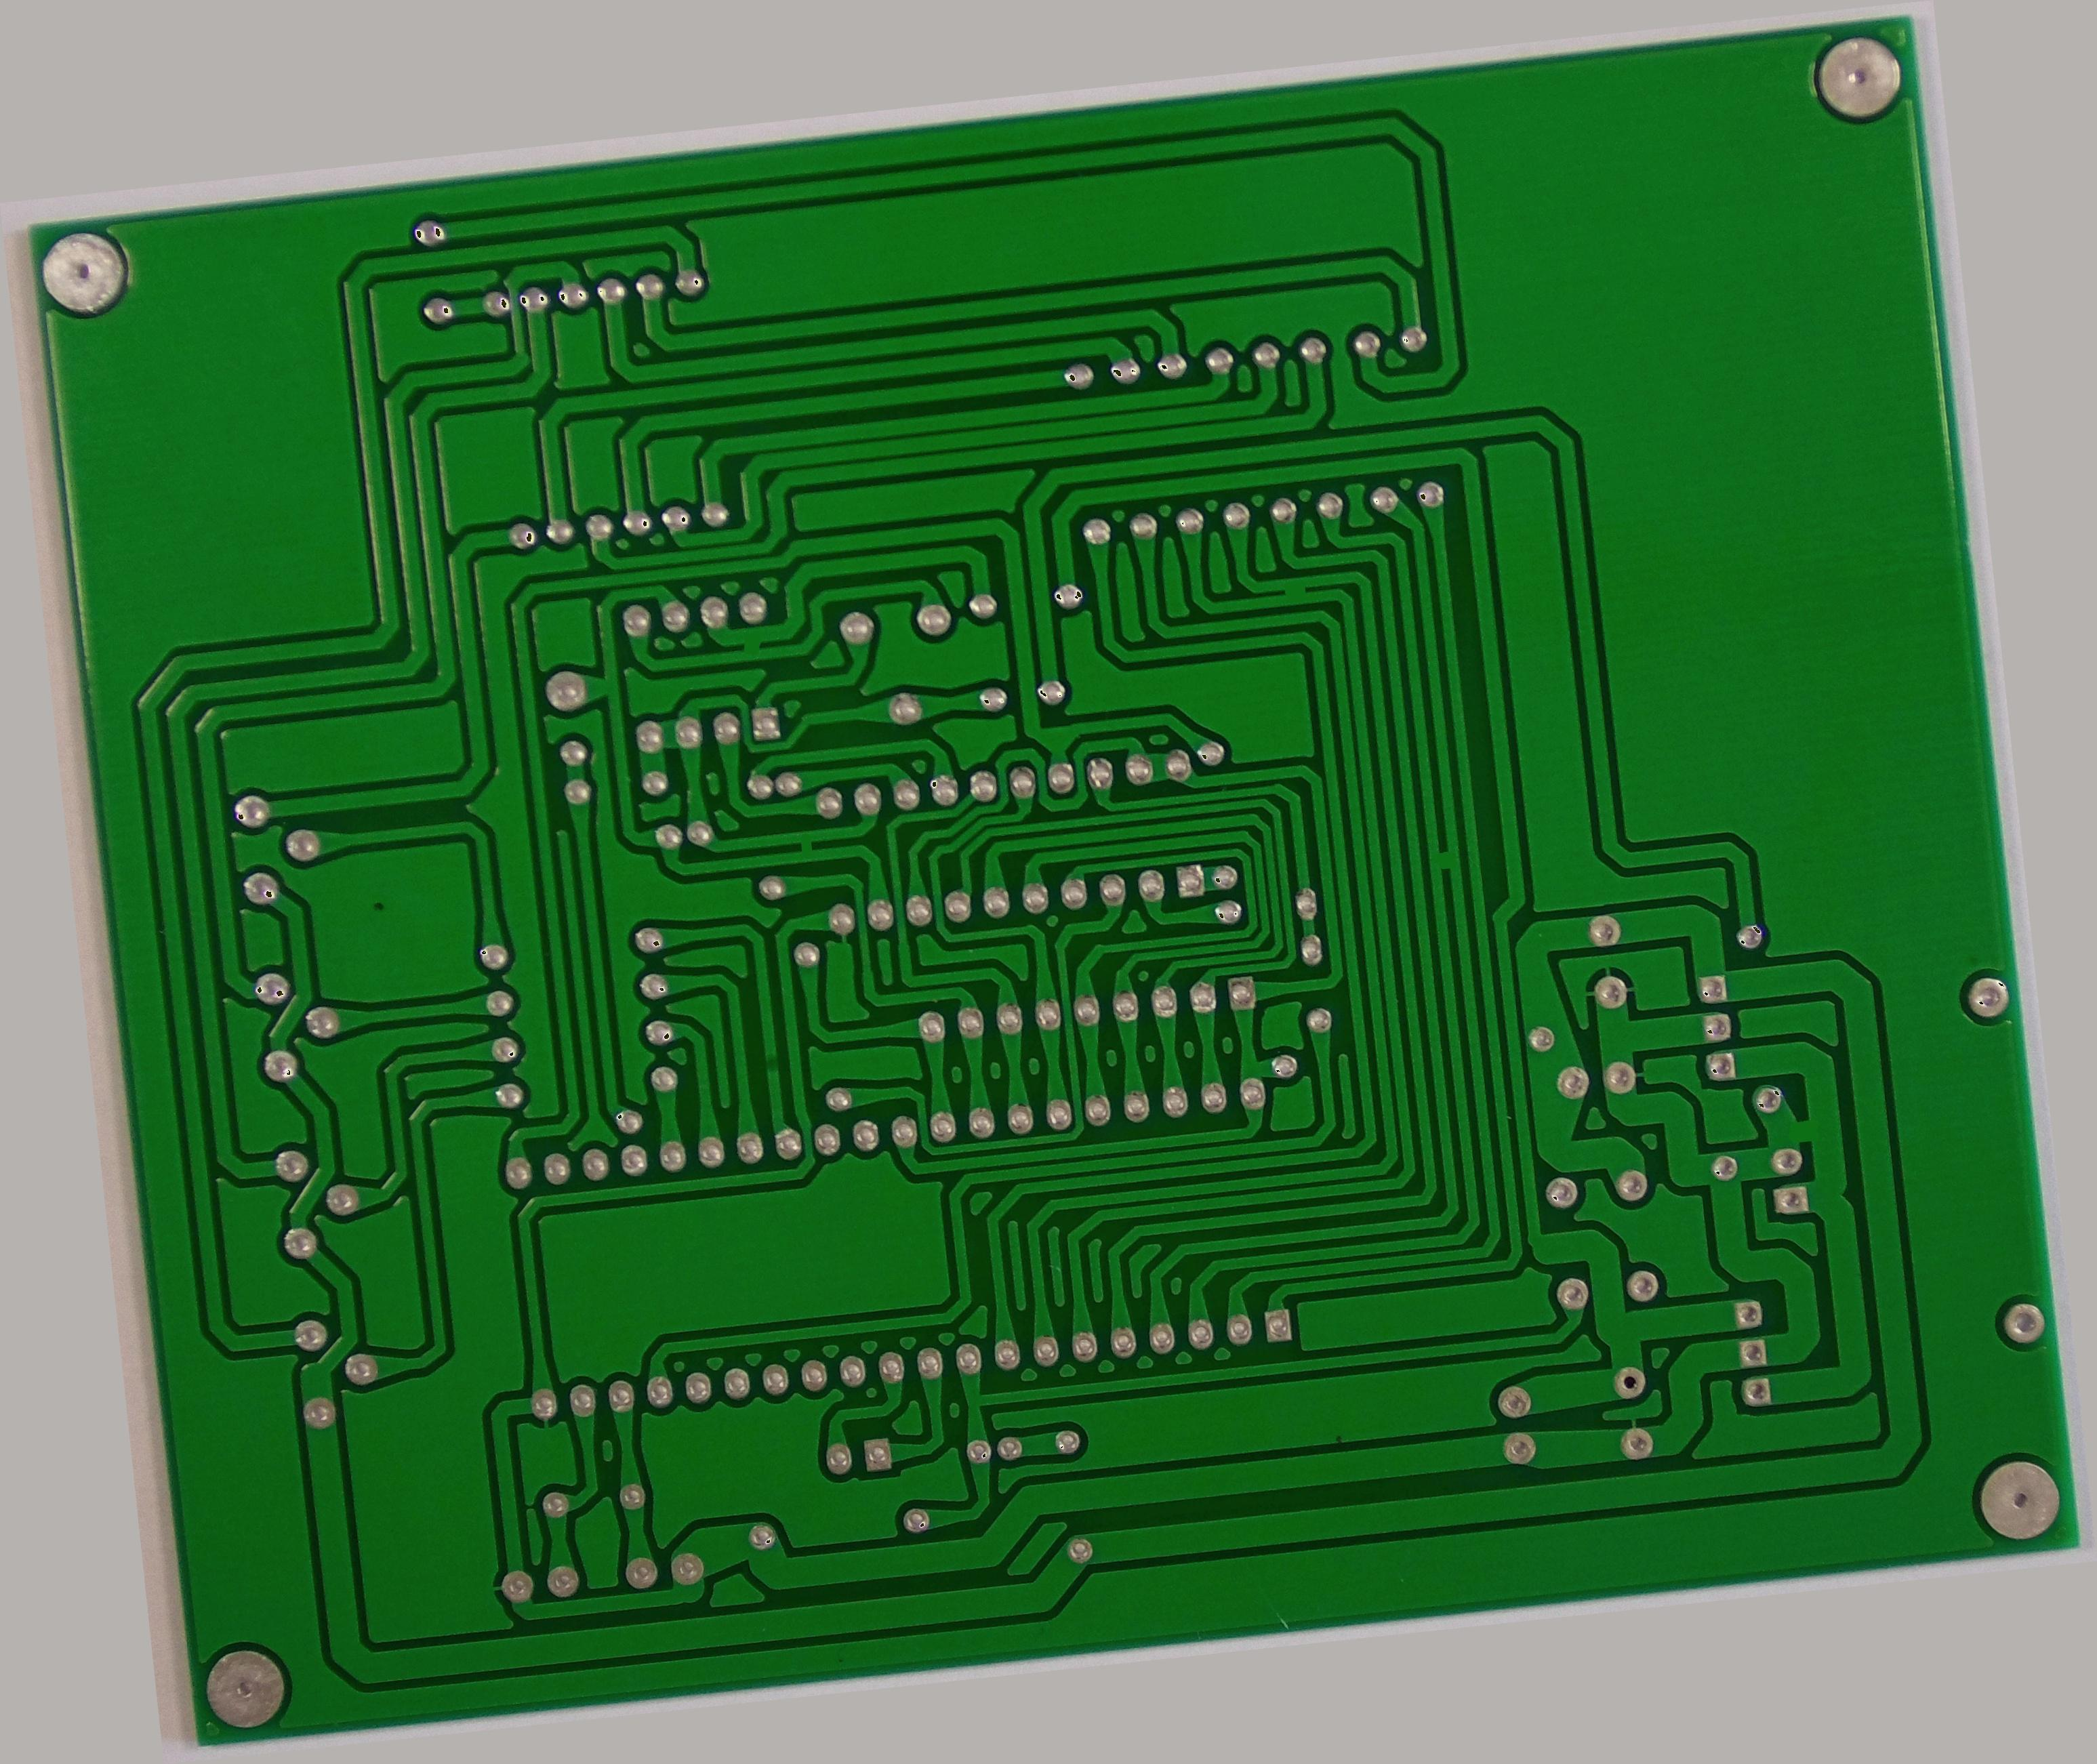short: (1773, 1102, 1833, 1157), (726, 621, 775, 665), (1425, 838, 1467, 882), (1271, 570, 1316, 607), (784, 829, 826, 866)
